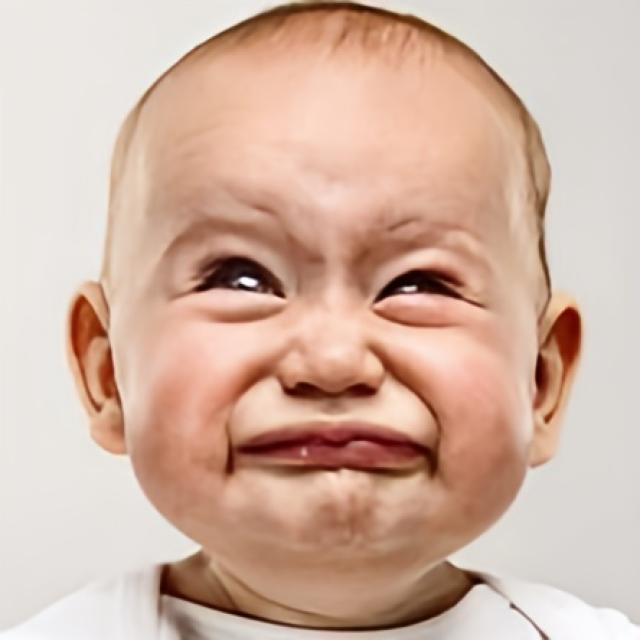sad: (110, 59, 532, 568)
